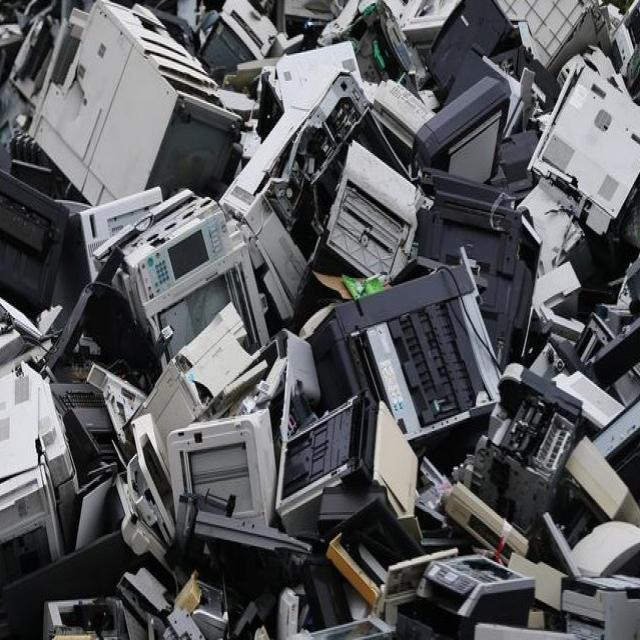heap: (22, 26, 640, 554)
